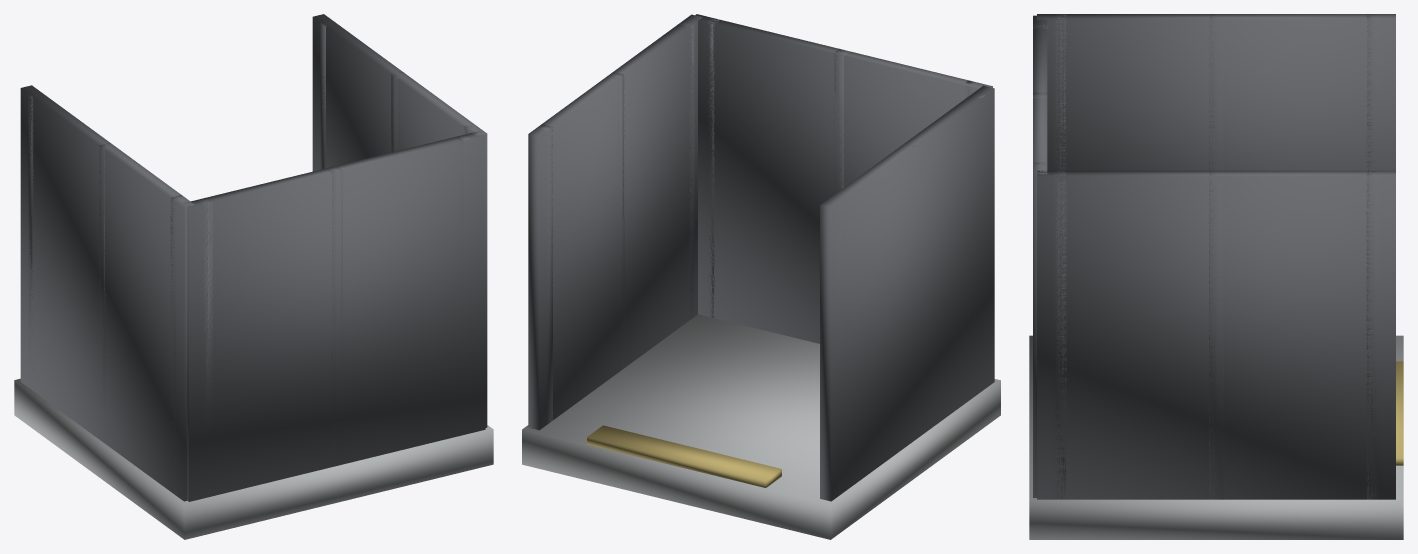
The model's file is landing_motel_w110_d105_window.glb.
The picture shows the model from 3 angles, left to right: view 1: azimuth 30°, elevation 25°; view 2: azimuth 150°, elevation 25°; view 3: azimuth 270°, elevation 25°; orthographic projection. The views are drawn at different scales.
Visible parts, largest first — view 1: world; view 2: world; view 3: world.
Boxes of the visible parts, x1,y1,x2,y2 form: world: (14,14,493,539); world: (522,14,1000,539); world: (1029,14,1403,539).
Size of the model in its own units: 1.1 by 1.12 by 1.05.
